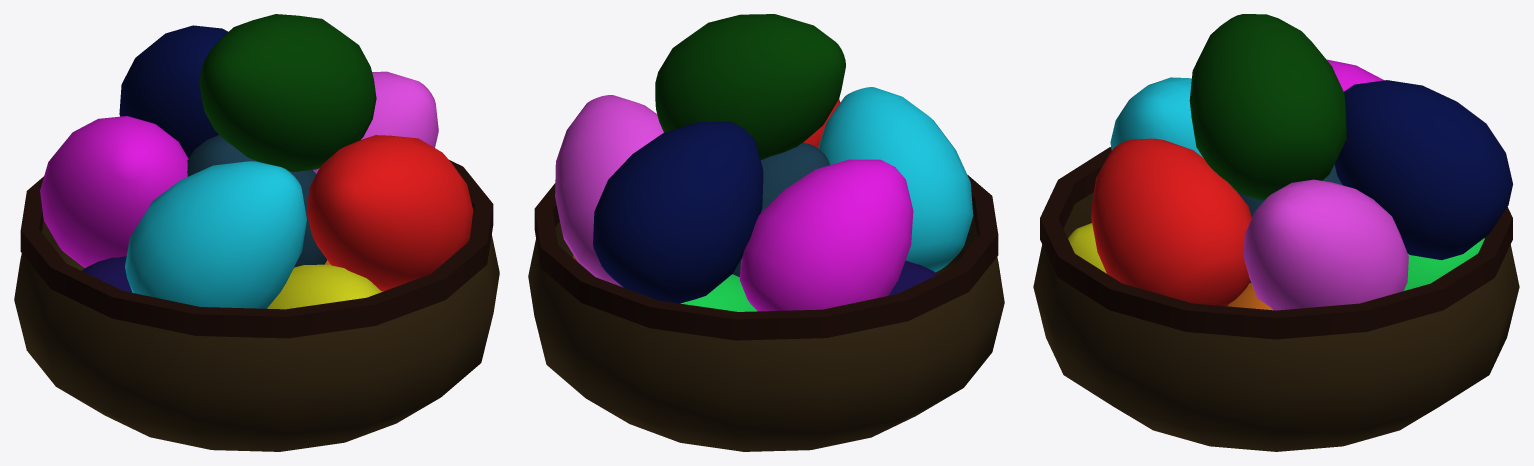
Rendered from Egg with sokuri.fbx.
The picture shows the model from 3 angles, left to right: view 1: azimuth 30°, elevation 25°; view 2: azimuth 150°, elevation 25°; view 3: azimuth 270°, elevation 25°; orthographic projection.
Parts seen in each view (by area): view 1: egg_sokuri_re Xform; view 2: egg_sokuri_re Xform; view 3: egg_sokuri_re Xform.
Boxes of the visible parts, bbox=[...] form: egg_sokuri_re Xform: bbox=[14, 14, 499, 451]; egg_sokuri_re Xform: bbox=[528, 14, 1004, 451]; egg_sokuri_re Xform: bbox=[1033, 14, 1519, 451].
Bounding box in the file's own units: 20.62 × 20.62 × 17.9.
